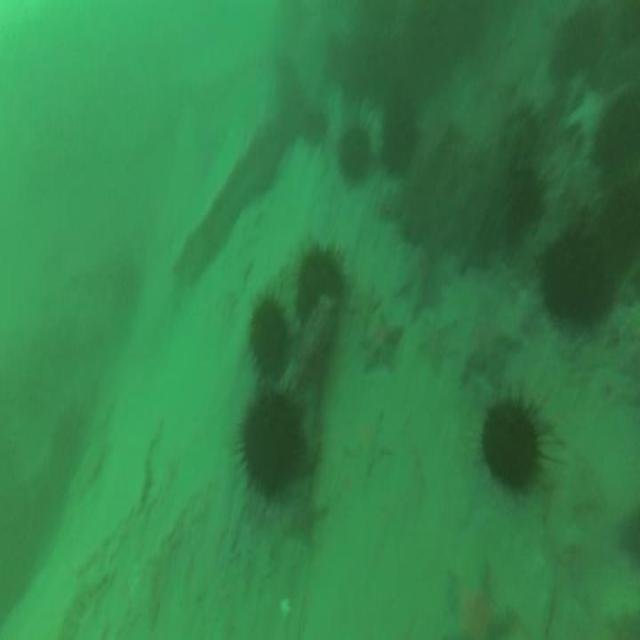echinus: (544, 221, 612, 327), (240, 390, 302, 490), (482, 398, 540, 485), (294, 246, 342, 312), (380, 98, 418, 174), (250, 303, 289, 373), (339, 126, 369, 184), (301, 104, 331, 146)
starfish: (454, 294, 518, 381), (440, 564, 513, 640), (345, 409, 392, 474), (397, 248, 447, 308), (362, 316, 401, 378)
